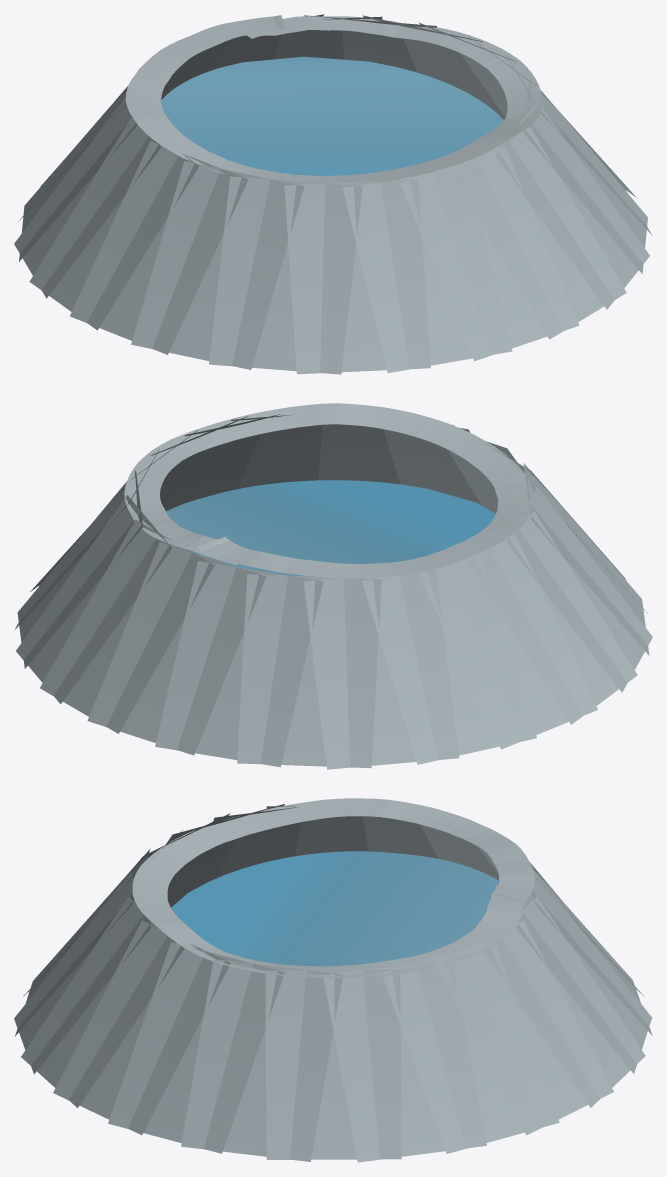
The model's file is bowlwater.fbx.
3 views of the same model, one above another, from view 1: azimuth 30°, elevation 25°; view 2: azimuth 150°, elevation 25°; view 3: azimuth 270°, elevation 25° (orthographic).
Visible parts, largest first — view 1: Paint; view 2: Paint; view 3: Paint.
Part boxes in pixels (x1,y1,x2,y2): Paint: (14,14,652,374); Paint: (14,403,652,769); Paint: (14,798,652,1162).
Size of the model in its own units: 9.65 by 2.46 by 9.66.
